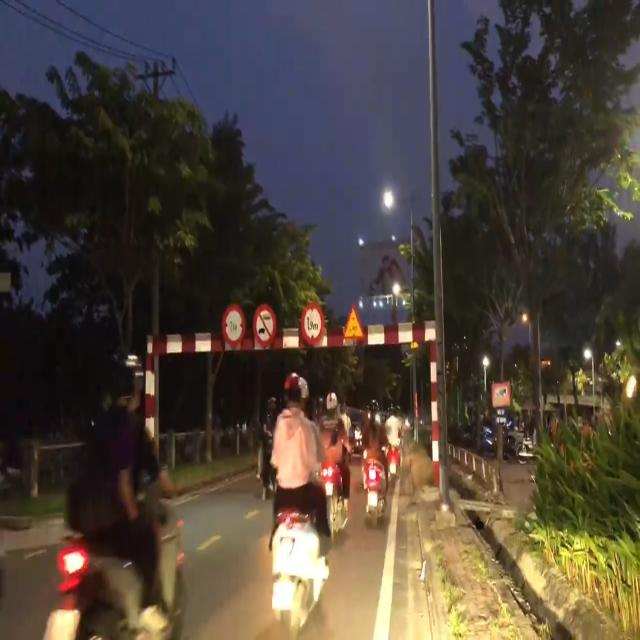Bien bao cam xe oto khach va xe oto tai: (253, 302, 278, 351)
Bien bao chieu cao tinh khong thuc te: (342, 298, 366, 343)
Bien bao han che chieu cao: (300, 300, 325, 348)
